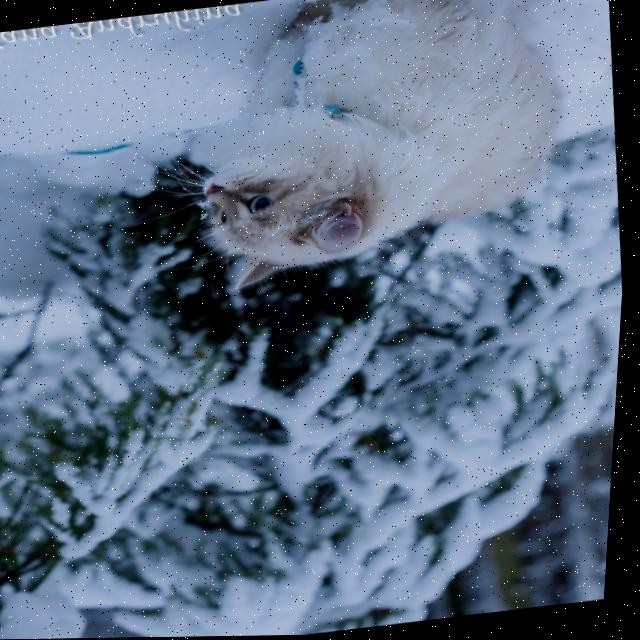Neva Masquerade: (171, 0, 589, 300)
